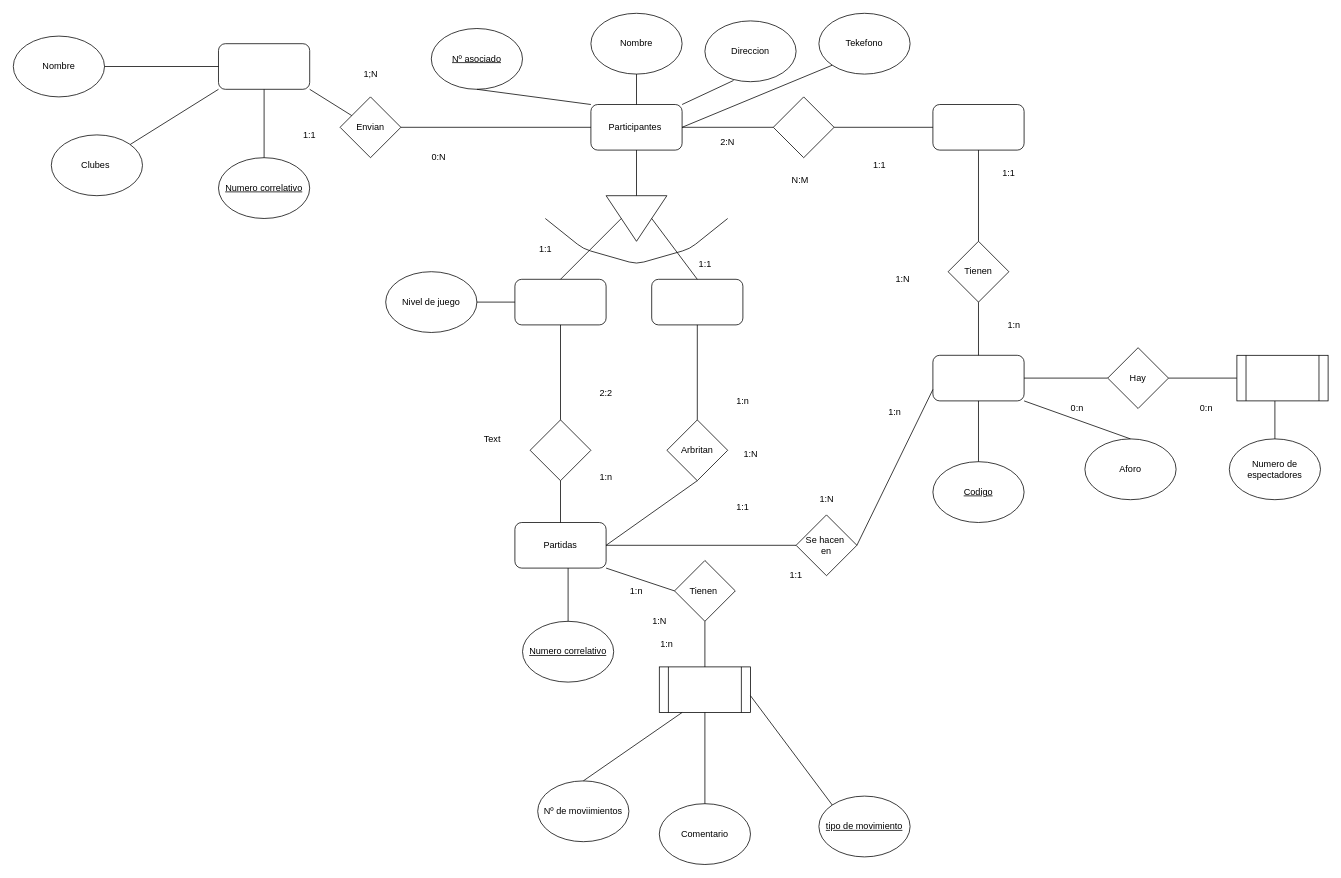
This 1341x878 diagram has some shape labels left out. The shapes that lost their labels are listed below. From the top down, each one's centre as x and y in pixels, then its label:
At point (264, 66): "Paises".
At point (803, 127): "Se alojan".
At point (978, 127): "Hoteles".
At point (636, 218): "Son".
At point (560, 302): "Jugadores".
At point (697, 302): "Albritos".
At point (978, 378): "Salas".
At point (1282, 378): "Espectadores".
At point (560, 450): "juega".
At point (704, 689): "Movimientos".
